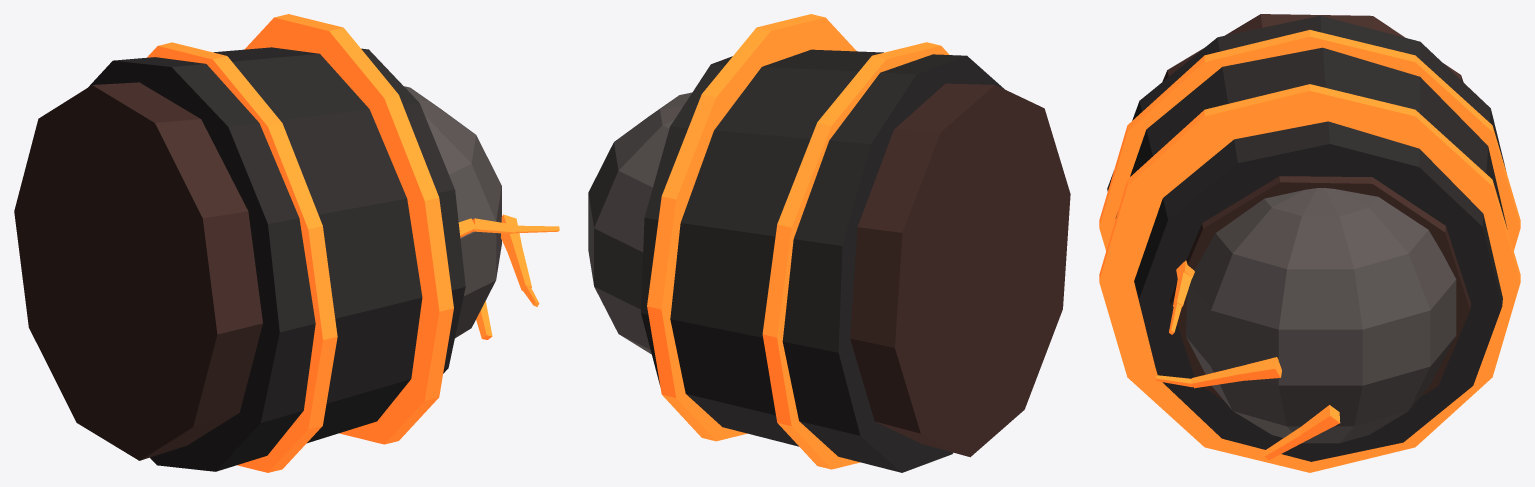
Rendered from hearth_guard_arm_l.glb.
3 renders of one model, left to right at view 1: azimuth 30°, elevation 25°; view 2: azimuth 150°, elevation 25°; view 3: azimuth 270°, elevation 25°, orthographic. The views are drawn at different scales.
Parts seen in each view (by area): view 1: hearth_guard_arm_l; view 2: hearth_guard_arm_l; view 3: hearth_guard_arm_l.
Part boxes in pixels (x1,y1,x2,y2): hearth_guard_arm_l: (14, 14, 559, 472); hearth_guard_arm_l: (588, 14, 1070, 472); hearth_guard_arm_l: (1099, 14, 1520, 472).
Bounding box in the file's own units: 0.4082 × 0.394 × 0.394.
